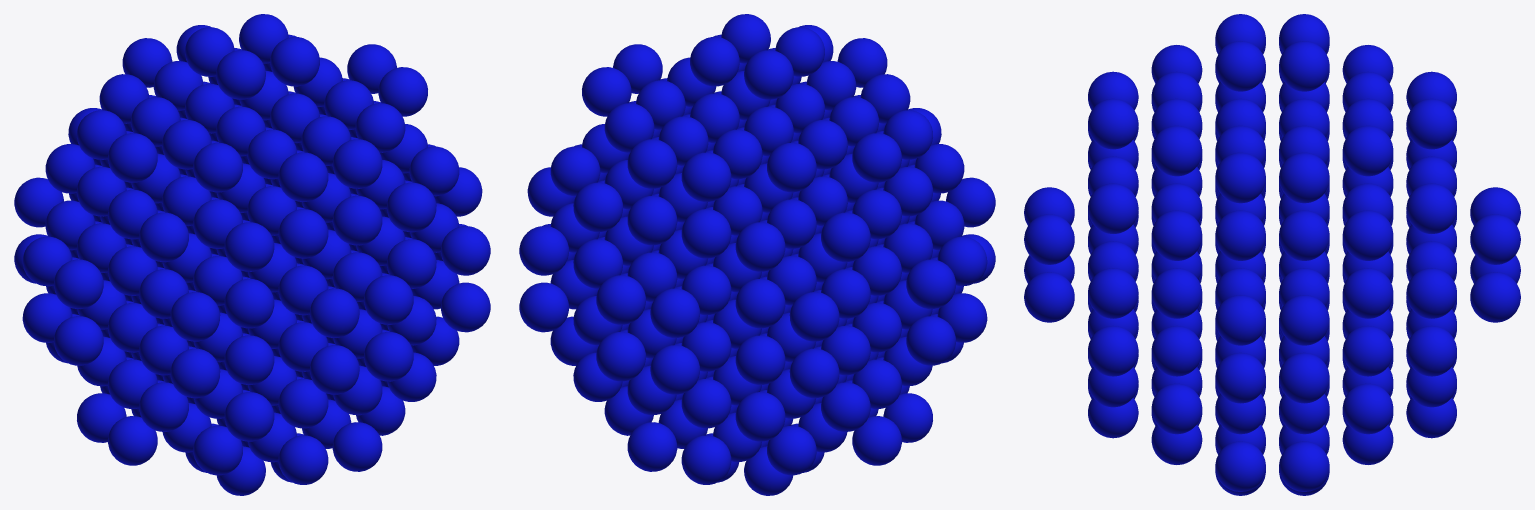
The model's file is Mysterion.fbx.
3 views of the same model, side by side, from view 1: azimuth 30°, elevation 25°; view 2: azimuth 150°, elevation 25°; view 3: azimuth 270°, elevation 25° (orthographic). The views are drawn at different scales.
Parts seen in each view (by area): view 1: GeoSphere266, GeoSphere332, GeoSphere201, GeoSphere075, GeoSphere202, GeoSphere261, GeoSphere331, GeoSphere395, GeoSphere409, GeoSphere476, GeoSphere138, GeoSphere396 (+88 smaller); view 2: GeoSphere306, GeoSphere372, GeoSphere241, GeoSphere115, GeoSphere242, GeoSphere316, GeoSphere371, GeoSphere417, GeoSphere435, GeoSphere484, GeoSphere178, GeoSphere436 (+88 smaller); view 3: GeoSphere261, GeoSphere278, GeoSphere302, GeoSphere316, GeoSphere342, GeoSphere366, GeoSphere223, GeoSphere231, GeoSphere405, GeoSphere429, GeoSphere150, GeoSphere174 (+80 smaller).
Boxes of the visible parts, <box> form: GeoSphere266: <box>224,278,274,328</box>; GeoSphere332: <box>332,195,382,245</box>; GeoSphere201: <box>170,348,220,398</box>; GeoSphere075: <box>278,435,328,484</box>; GeoSphere202: <box>224,335,274,384</box>; GeoSphere261: <box>364,275,413,324</box>; GeoSphere331: <box>278,209,328,258</box>; GeoSphere395: <box>278,152,328,201</box>; GeoSphere409: <box>108,133,157,182</box>; GeoSphere476: <box>270,37,319,86</box>; GeoSphere138: <box>224,392,274,441</box>; GeoSphere396: <box>332,139,382,188</box>; GeoSphere306: <box>735,278,785,328</box>; GeoSphere372: <box>627,195,677,245</box>; GeoSphere241: <box>789,348,839,398</box>; GeoSphere115: <box>681,435,731,484</box>; GeoSphere242: <box>735,335,785,384</box>; GeoSphere316: <box>596,275,645,324</box>; GeoSphere371: <box>681,209,731,258</box>; GeoSphere417: <box>852,133,901,182</box>; GeoSphere435: <box>681,152,731,201</box>; GeoSphere484: <box>690,37,739,86</box>; GeoSphere178: <box>735,392,785,441</box>; GeoSphere436: <box>627,139,677,188</box>; GeoSphere261: <box>1024,214,1074,264</box>; GeoSphere278: <box>1151,268,1202,318</box>; GeoSphere302: <box>1342,268,1393,318</box>; GeoSphere316: <box>1470,214,1520,264</box>; GeoSphere342: <box>1151,210,1202,260</box>; GeoSphere366: <box>1342,210,1393,260</box>; GeoSphere223: <box>1215,352,1265,403</box>; GeoSphere231: <box>1279,352,1329,403</box>; GeoSphere405: <box>1151,125,1202,176</box>; GeoSphere429: <box>1342,125,1393,176</box>; GeoSphere150: <box>1151,383,1202,434</box>; GeoSphere174: <box>1342,383,1393,434</box>.
Bounding box in the file's own units: 390 × 390 × 390.
